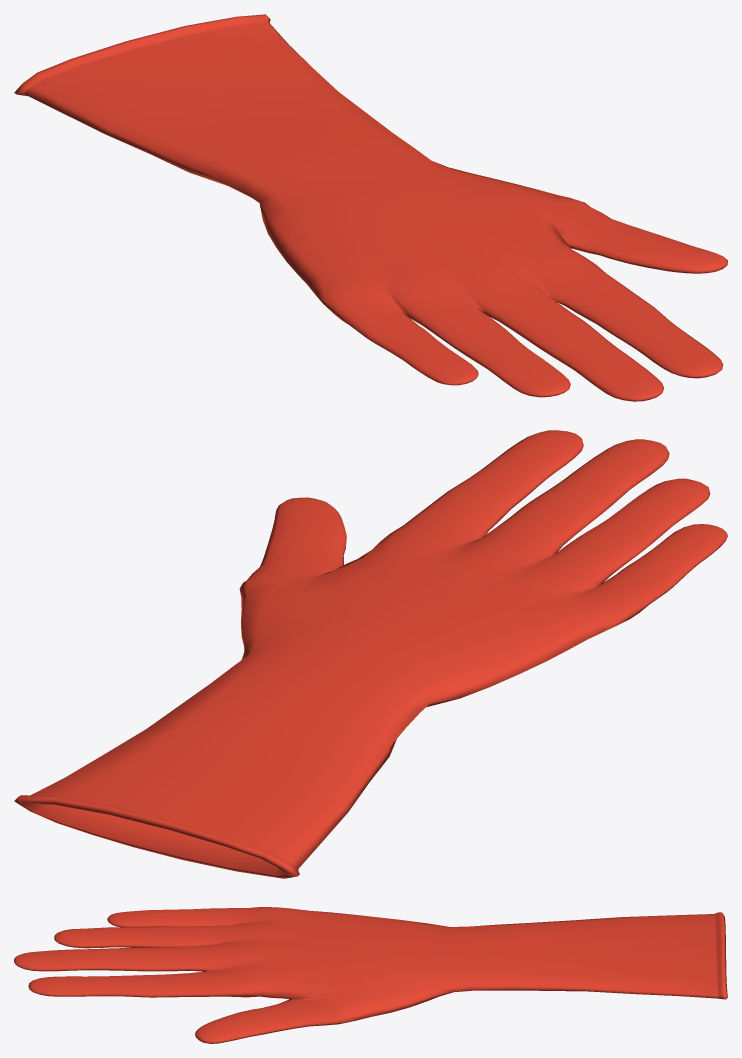
Rendered from rubber_gloves_R.fbx.
3 views of the same model, one above another, from view 1: azimuth 30°, elevation 25°; view 2: azimuth 150°, elevation 25°; view 3: azimuth 270°, elevation 25° (orthographic). The views are drawn at different scales.
Visible parts, largest first — view 1: rubber_gloves; view 2: rubber_gloves; view 3: rubber_gloves.
Boxes of the visible parts, x1,y1,x2,y2 form: rubber_gloves: [14, 14, 727, 401]; rubber_gloves: [14, 430, 727, 878]; rubber_gloves: [14, 907, 727, 1043].
Bounding box in the file's own units: 13.78 × 1.23 × 32.06.
